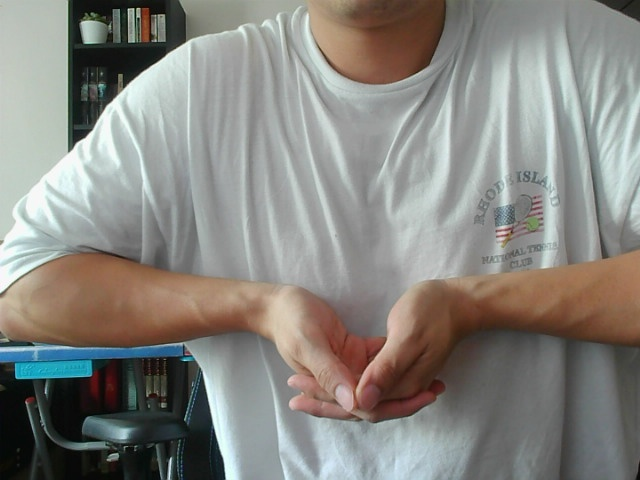Boar: (269, 244, 486, 453)
